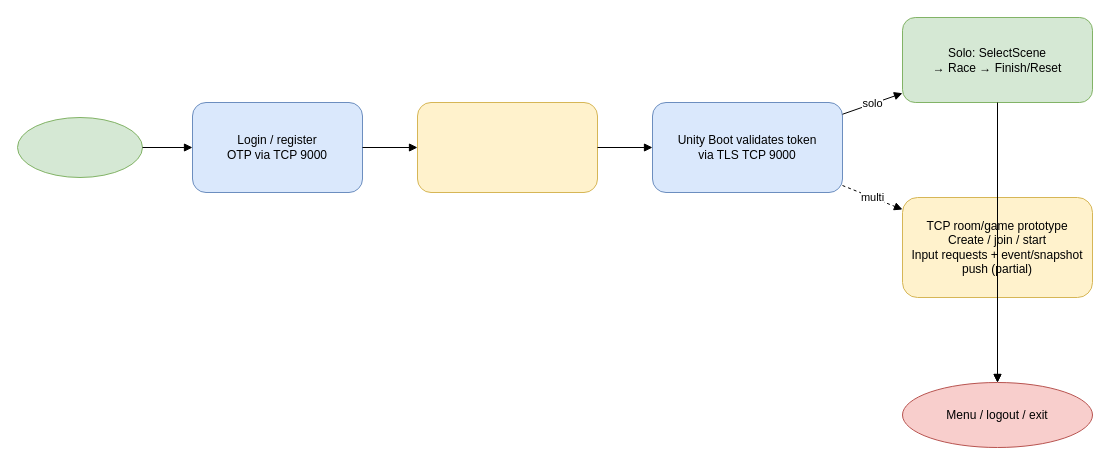
Some shapes in this 1110 by 465 pixel diagram are drawn without their labels. Each missing label, with the centre of its shape:
"Launcher start" goes at point 79,147.
"Server validates credentials; returns token" goes at point 507,147.
